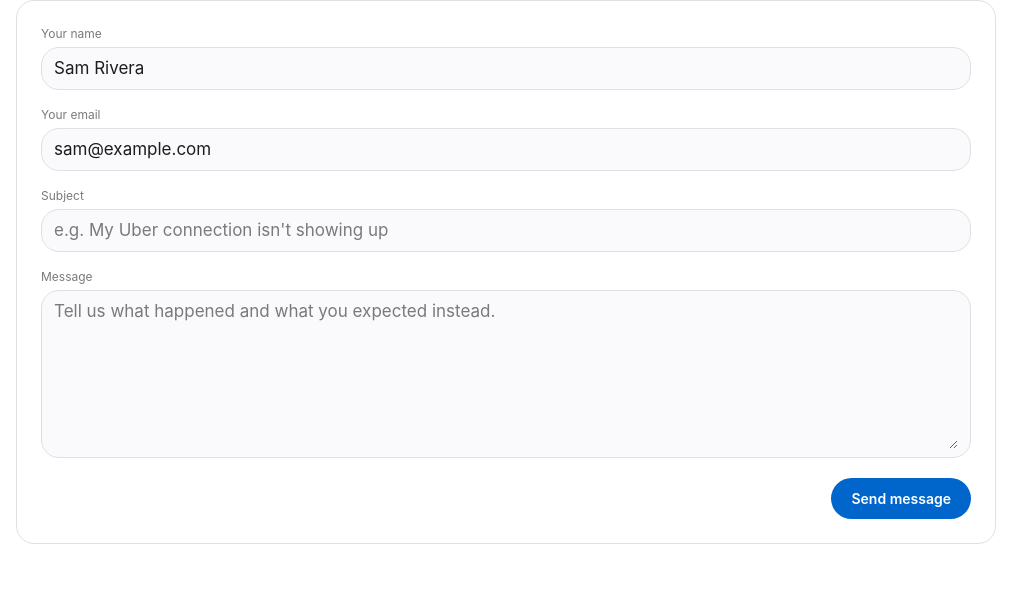
Test case: ContactForm › surfaces the server's error message from the { error } envelope without losing what was typed
The image size is (1013, 598).
Step 1. Type "Uber connection missing" into the field labelled "Subject" → (506, 230), box [54,218,958,243]
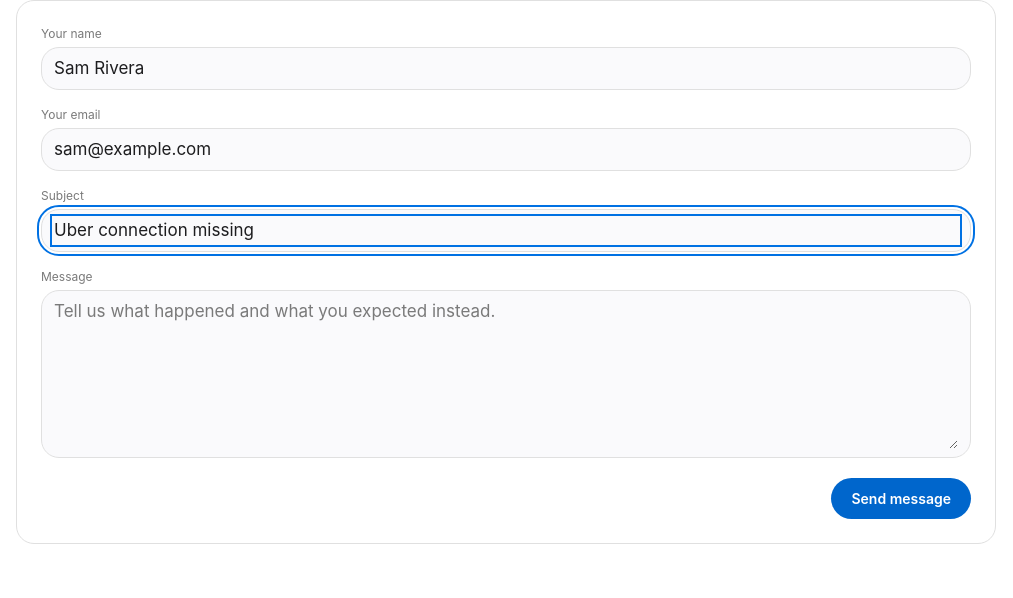
Step 2. Type "My Uber earnings stopped showing up after Tuesday." into the text box labelled "Message" → (506, 374), box [54,299,958,449]
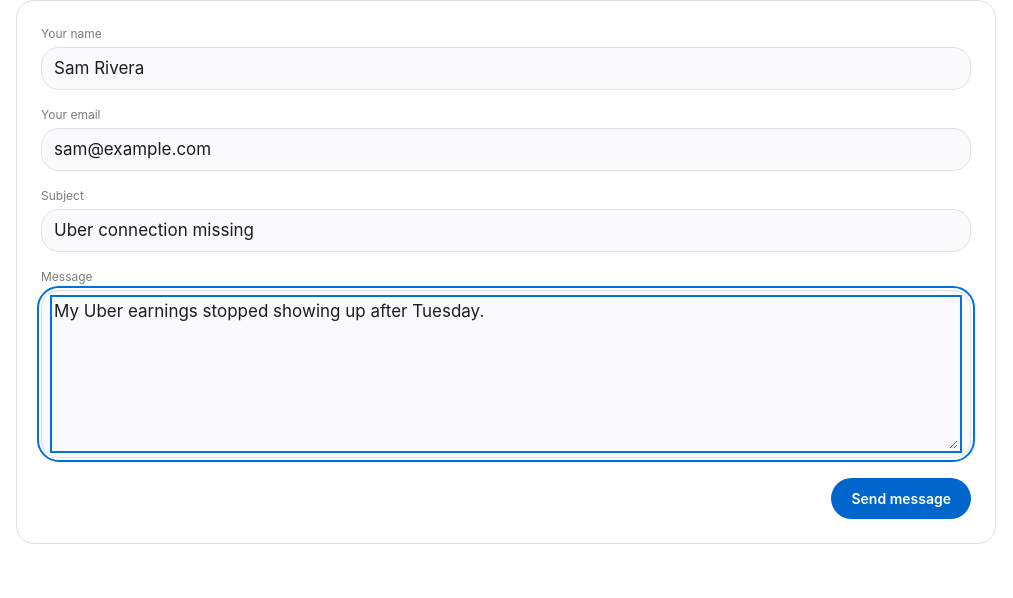
Step 3. Click the button "Send message" → (901, 498), box [831,478,971,519]
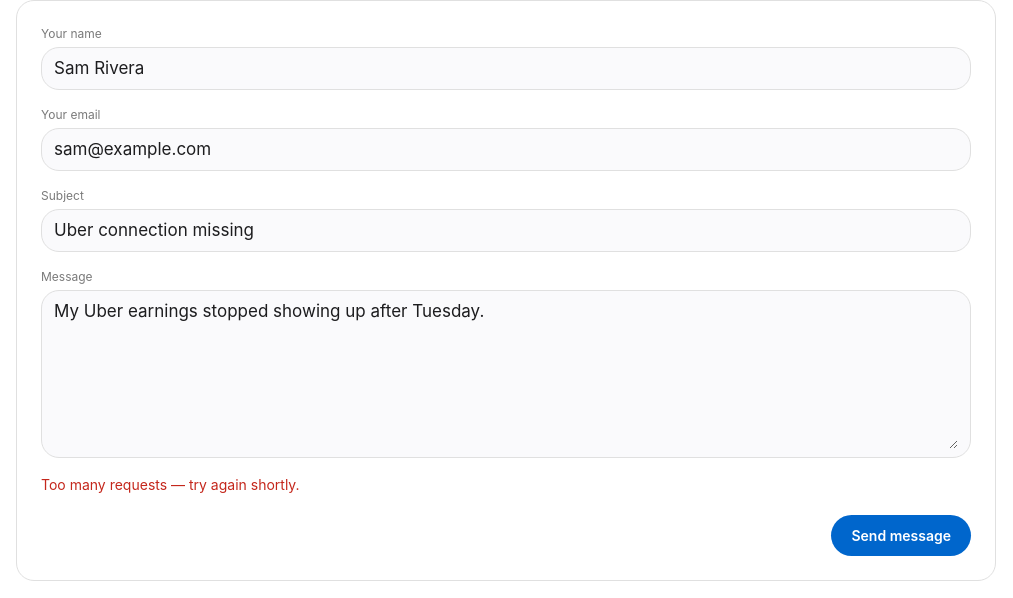
Expected: the message shows "Too many requests", [41,476,300,493]
